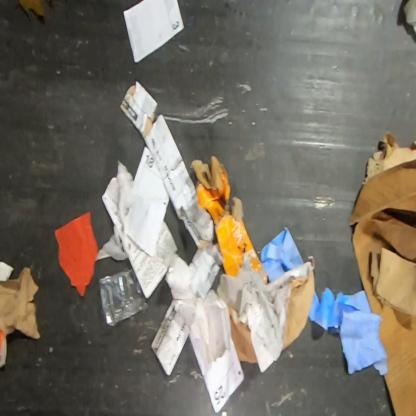cardboard: (349, 129, 415, 415), (216, 251, 315, 375), (189, 155, 269, 284), (0, 267, 40, 368)
rigid_plastic: (99, 267, 148, 326)
